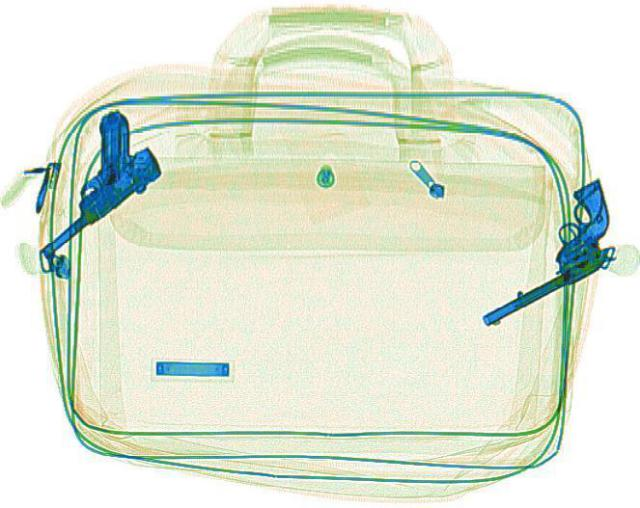Gun: (433, 187, 637, 321), (0, 104, 186, 239)
